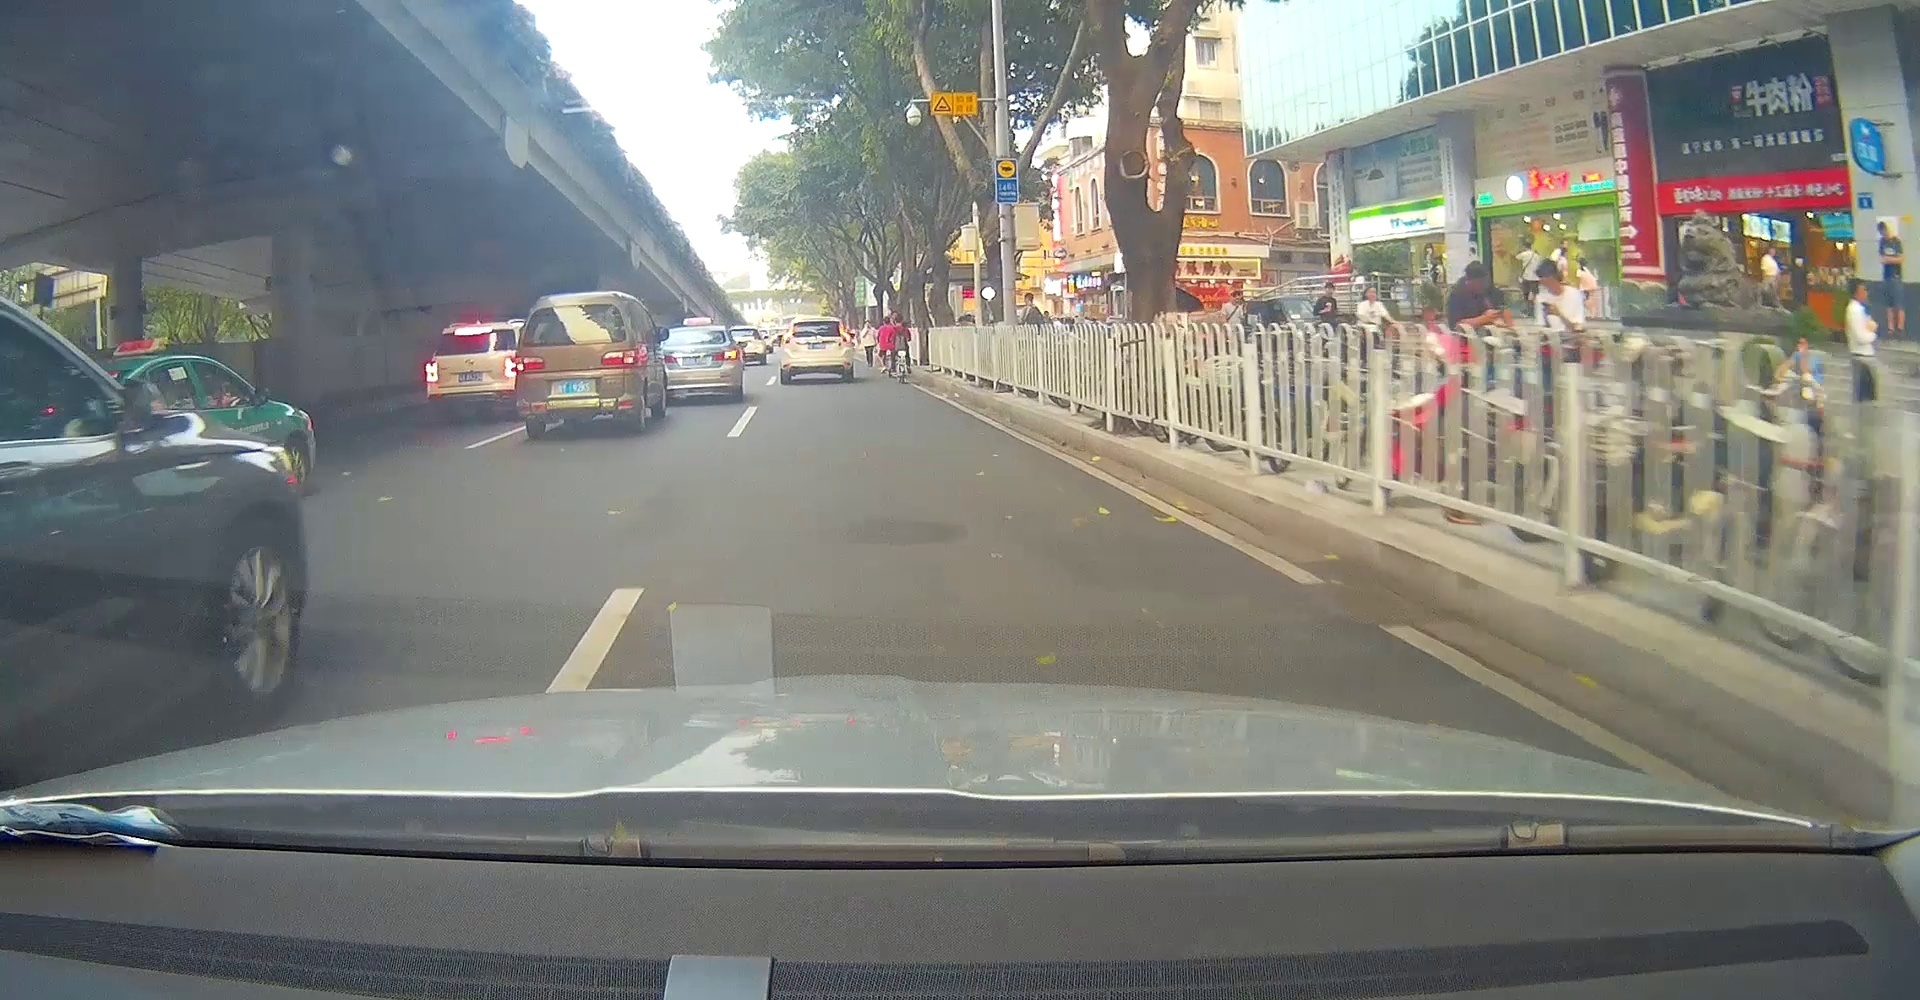L_light: (516, 357, 546, 372), (781, 332, 794, 344), (663, 355, 677, 364)
R_light: (601, 346, 648, 365), (711, 348, 742, 360), (841, 332, 853, 344)
T_light: (561, 306, 582, 311), (684, 331, 698, 335), (811, 321, 824, 325)
day-brake: (780, 317, 853, 385)
day-no: (516, 292, 649, 440)
day-right: (660, 325, 742, 404)
